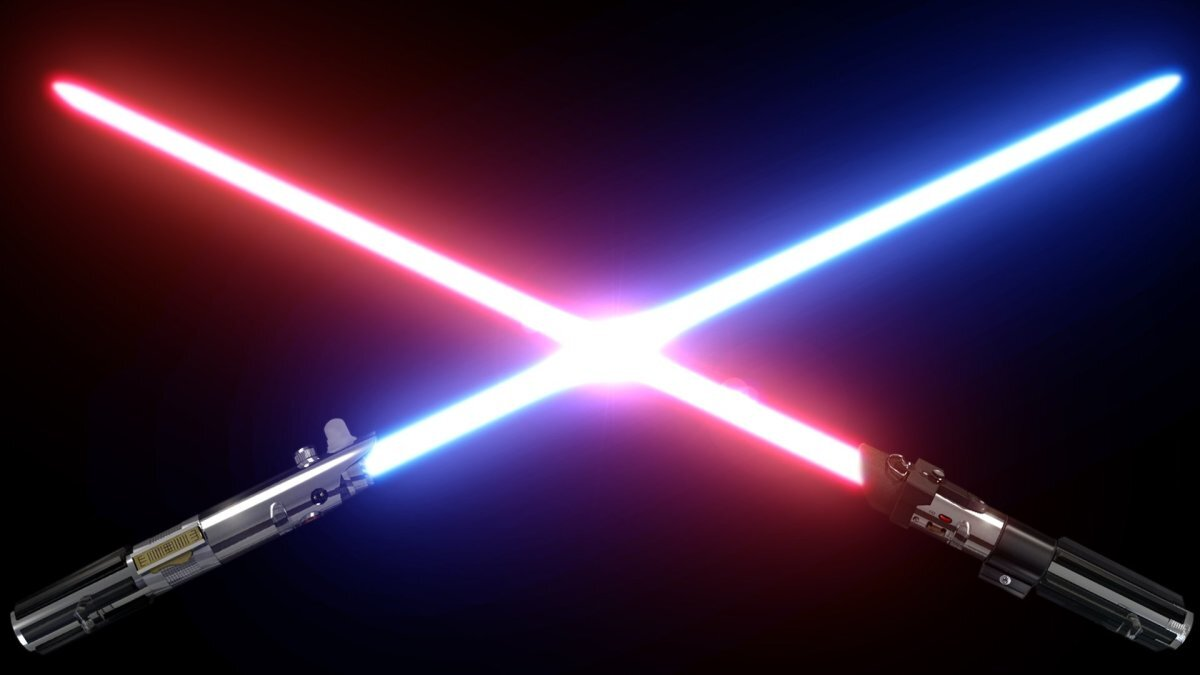lightsaber: (20, 85, 1170, 647)
